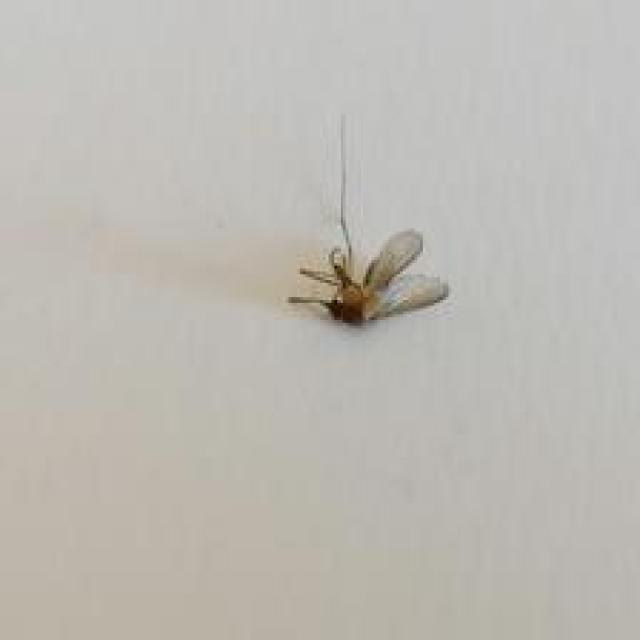Culex: (287, 113, 450, 327)
